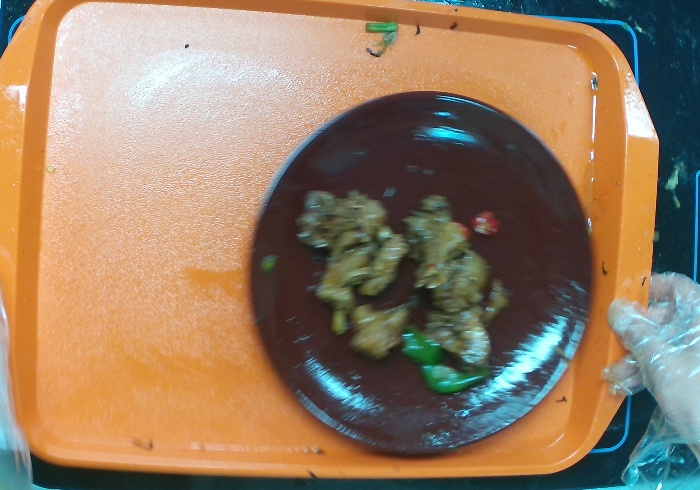HZYJPL-Ka_Fei_Yuan_Pan: (247, 90, 596, 460)
